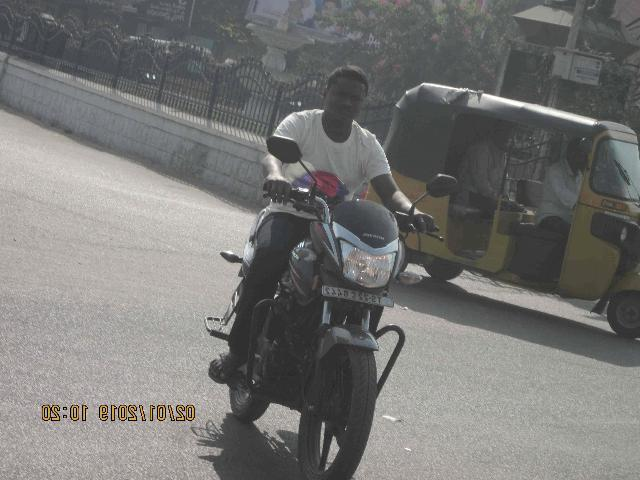motor: (203, 134, 463, 480)
non-helm: (320, 66, 372, 126)
